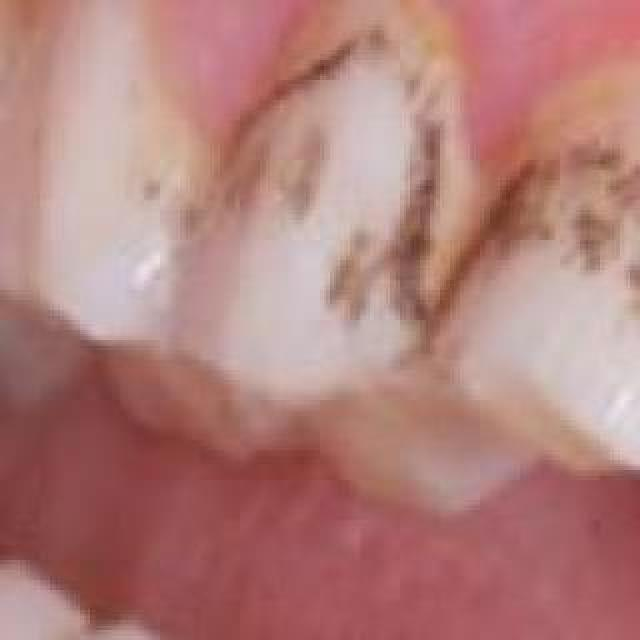calculus: (225, 0, 491, 230), (55, 24, 229, 252), (486, 6, 640, 246)
stains: (255, 75, 455, 321), (480, 178, 640, 304), (0, 610, 162, 640)
